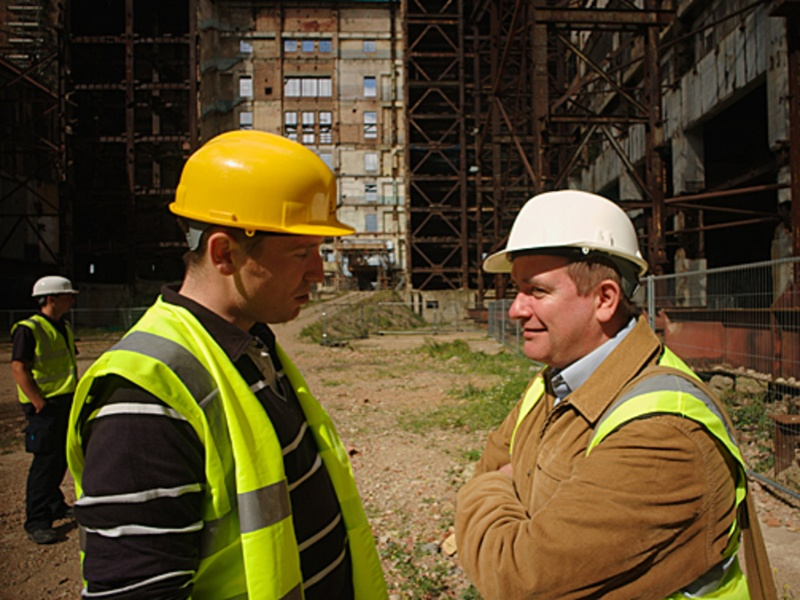helmet: (163, 130, 358, 238), (483, 186, 651, 268), (31, 277, 77, 293)
jacket: (180, 299, 390, 600), (614, 353, 758, 600), (26, 313, 78, 401)
